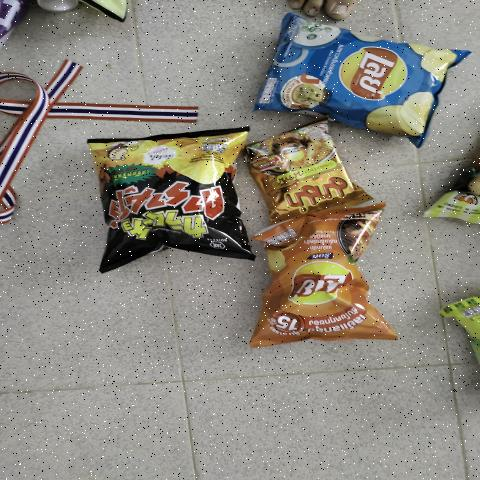karamujo: (119, 136, 236, 243)
lay_blue: (282, 23, 416, 118)
mama: (276, 132, 320, 204)
